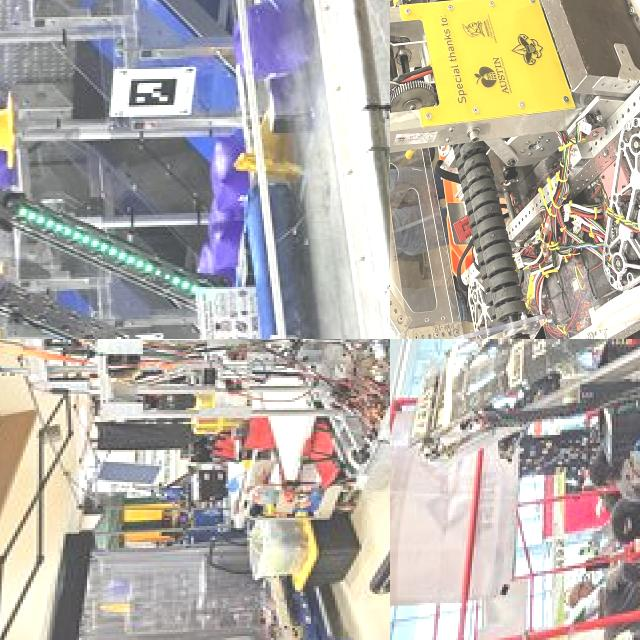FRC-Robots: (0, 339, 390, 624), (0, 21, 314, 339), (390, 0, 640, 339), (404, 339, 640, 562)
